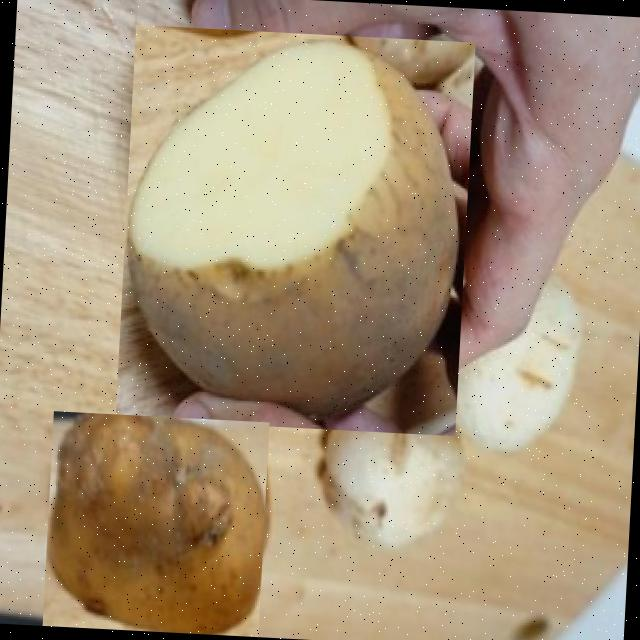Damaged potato: (42, 410, 268, 637)
Potato: (114, 24, 474, 435), (421, 262, 594, 462), (322, 400, 458, 550)
